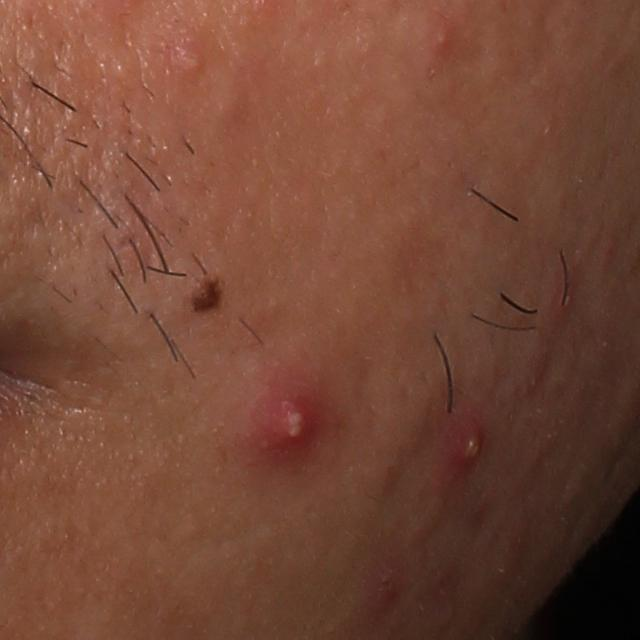nevus: (190, 276, 222, 321)
papule: (372, 569, 407, 615), (175, 47, 209, 78), (430, 23, 456, 53)
pustule: (245, 380, 324, 464), (446, 411, 490, 468)
